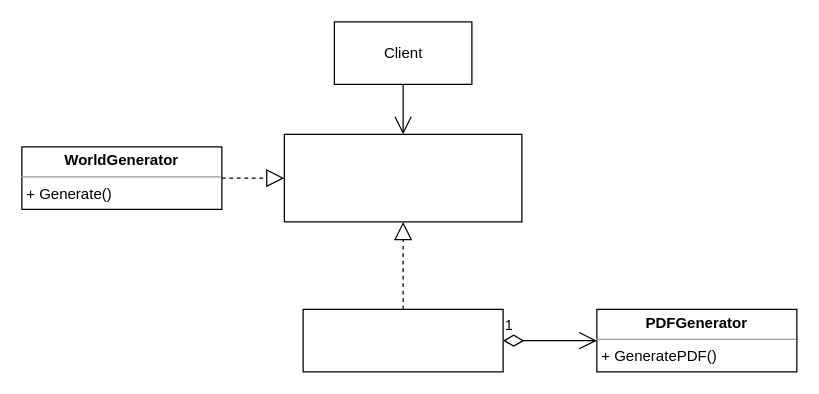
The diagram is 819 pixels wide and 394 high, and some of its shapes have lost their labels. Each missing label, with the centre of its shape:
"<<Interface>> IFileGenerator + Generate()" belongs at point 402,177.
"PDFGeneratorAdapter + Generate()" belongs at point 402,340.
